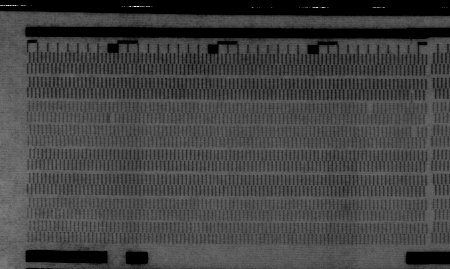Broken hole: (409, 126, 422, 140), (364, 101, 376, 115)
Oblique printing: (406, 90, 416, 105), (105, 112, 117, 123)
